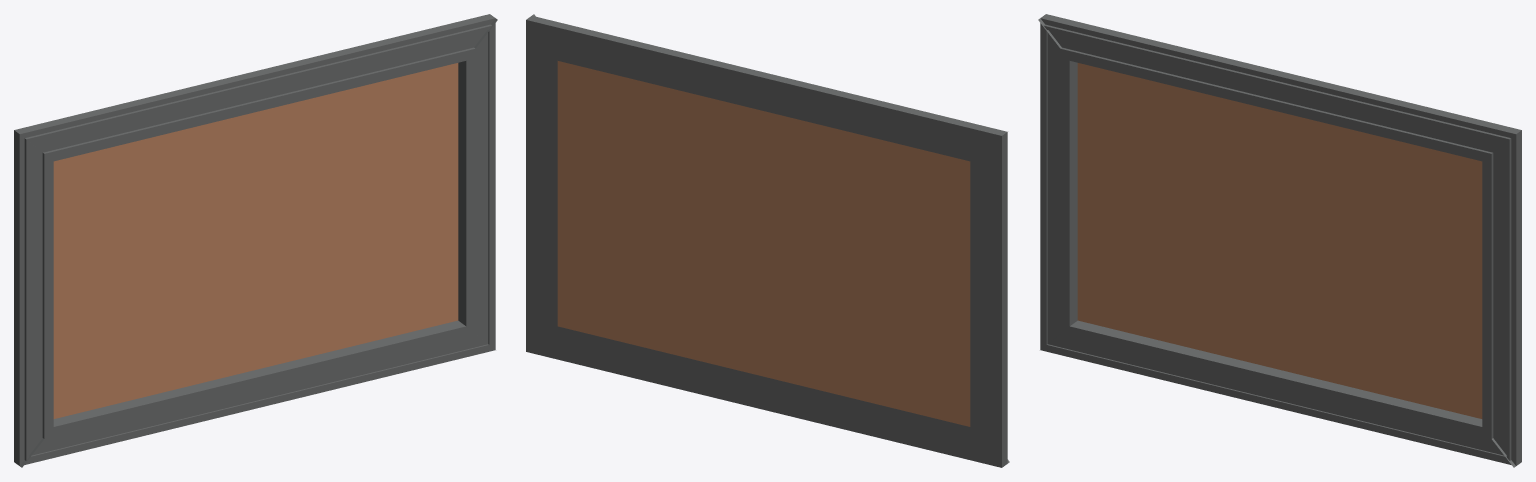
Rendered from cuadro2.obj.
3 renders of one model, left to right at view 1: azimuth 30°, elevation 25°; view 2: azimuth 150°, elevation 25°; view 3: azimuth 330°, elevation 25°, orthographic.
Visible parts, largest first — view 1: mirror_001, Group_001; view 2: mirror_001, Group_001; view 3: mirror_001, Group_001.
Part boxes in pixels (x1,y1,x2,y2): mirror_001: (53, 63, 458, 418); Group_001: (14, 14, 497, 467); mirror_001: (557, 61, 970, 426); Group_001: (526, 14, 1009, 467); mirror_001: (1077, 63, 1482, 418); Group_001: (1038, 14, 1521, 467).
Bounding box in the file's own units: 0.2419 × 0.1613 × 0.00705.
Materials: 2 (2 with a texture image).
